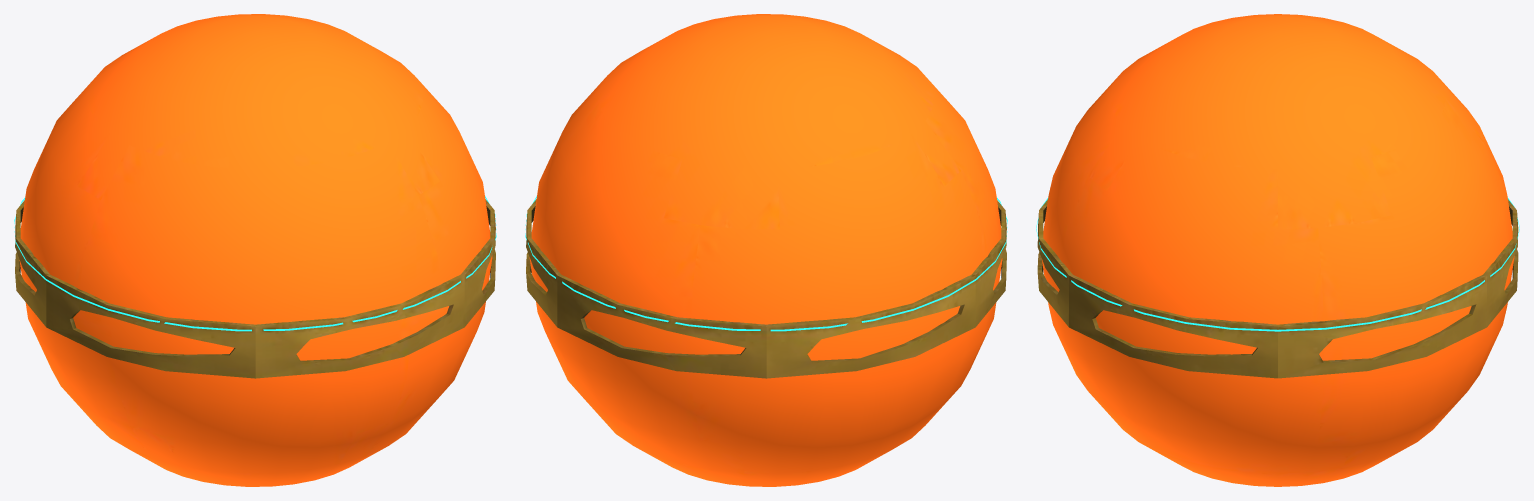
3 views of the same model, side by side, from view 1: azimuth 30°, elevation 25°; view 2: azimuth 150°, elevation 25°; view 3: azimuth 270°, elevation 25° (orthographic).
Visible parts, largest first — view 1: glow_Molten_orange_glass_with_red_edges, Brushed_polished_lattice_gold, glow_Faint_teal_edge_reflection; view 2: glow_Molten_orange_glass_with_red_edges, Brushed_polished_lattice_gold, glow_Faint_teal_edge_reflection; view 3: glow_Molten_orange_glass_with_red_edges, Brushed_polished_lattice_gold, glow_Faint_teal_edge_reflection.
Part boxes in pixels (<box>): glow_Molten_orange_glass_with_red_edges: <box>19,14,492,486</box>; Brushed_polished_lattice_gold: <box>15,199,495,378</box>; glow_Faint_teal_edge_reflection: <box>14,196,496,331</box>; glow_Molten_orange_glass_with_red_edges: <box>529,14,1002,486</box>; Brushed_polished_lattice_gold: <box>526,199,1006,378</box>; glow_Faint_teal_edge_reflection: <box>525,196,1007,331</box>; glow_Molten_orange_glass_with_red_edges: <box>1042,14,1514,486</box>; Brushed_polished_lattice_gold: <box>1037,199,1518,378</box>; glow_Faint_teal_edge_reflection: <box>1036,197,1519,331</box>.
Size of the model in its own units: 0.978 by 0.96 by 0.978.
4 materials, 2 textured.
